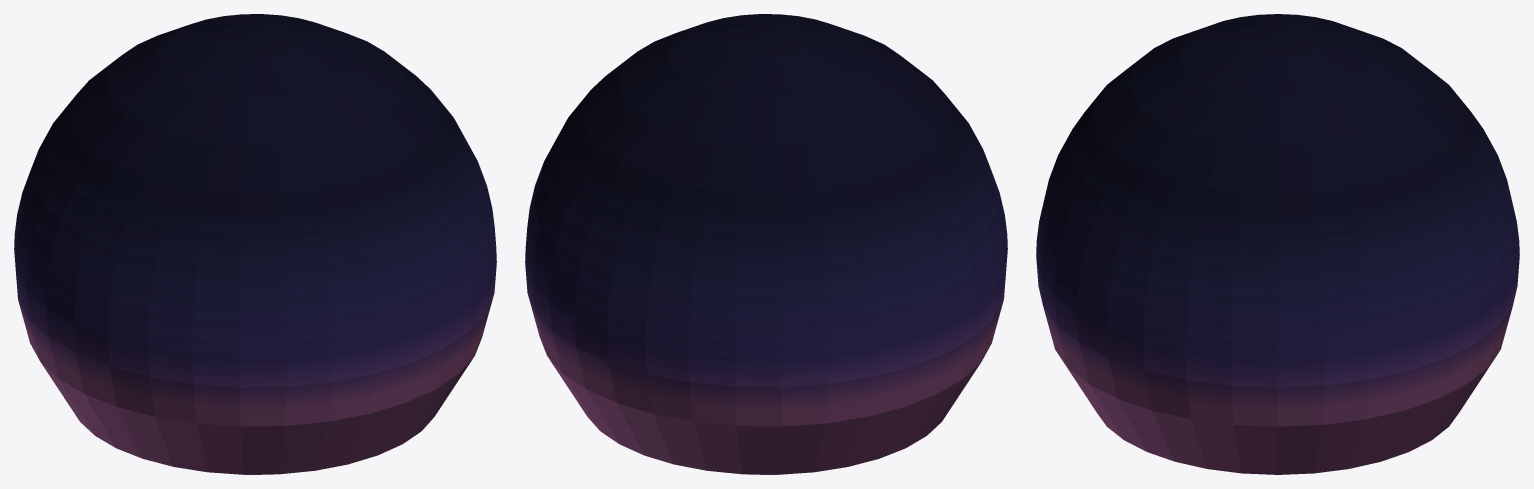
File: magicwood.glb
3 views of the same model, side by side, from view 1: azimuth 30°, elevation 25°; view 2: azimuth 150°, elevation 25°; view 3: azimuth 270°, elevation 25° (orthographic).
Visible parts, largest first — view 1: sky; view 2: sky; view 3: sky.
Part boxes in pixels (bbox=[...]): sky: bbox=[14, 14, 496, 474]; sky: bbox=[525, 14, 1007, 474]; sky: bbox=[1036, 14, 1519, 474].
Size of the model in its own units: 640 by 640 by 640.
Materials: 11 (11 with a texture image).
